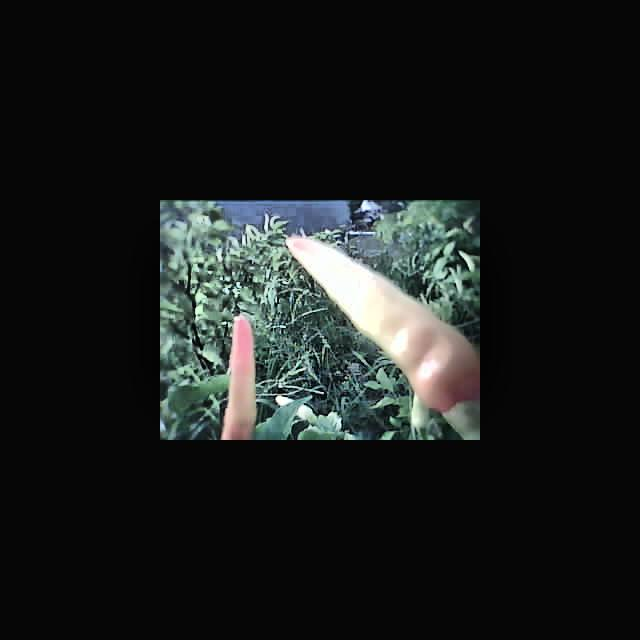Cabai: (290, 235, 480, 396), (226, 318, 256, 440)
